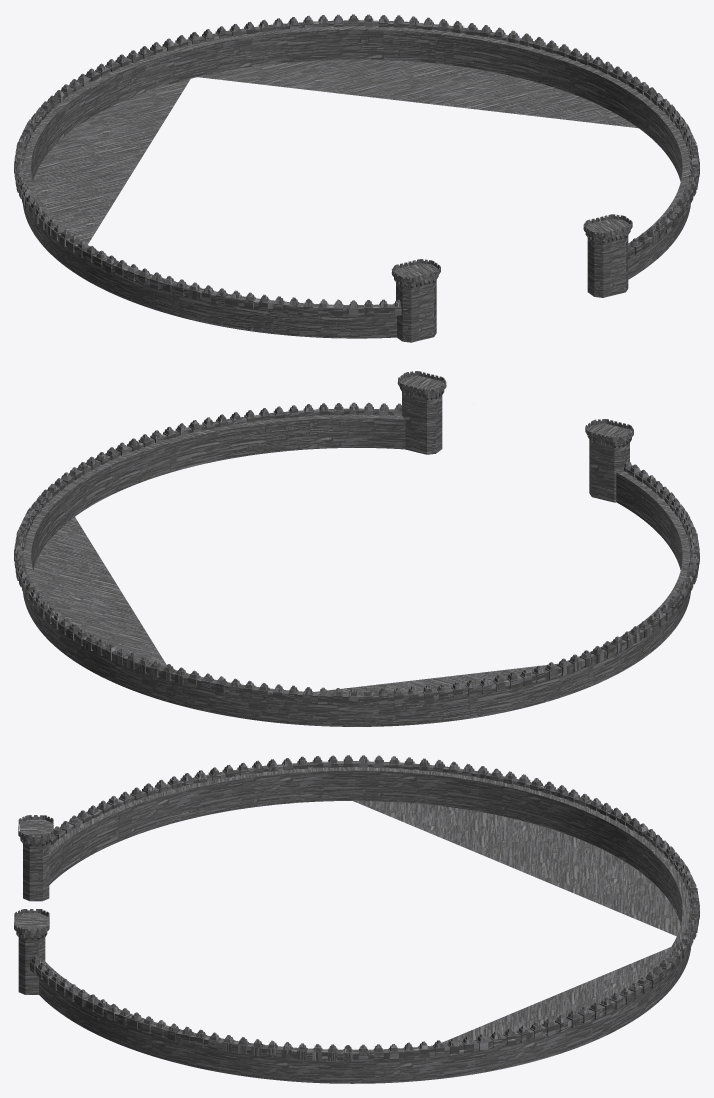
File: wall_2.fbx
The picture shows the model from 3 angles, top to bottom: view 1: azimuth 30°, elevation 25°; view 2: azimuth 150°, elevation 25°; view 3: azimuth 270°, elevation 25°; orthographic projection.
Parts seen in each view (by area): view 1: LVL 1 Pared, LVL 1 Bloques muro, LVL 1 torre puerta der, LVL 1 torre puerta izq, LVL 1 bloq torre puerta der, LVL 1 bloq torre puerta izq; view 2: LVL 1 Pared, LVL 1 Bloques muro, LVL 1 torre puerta der, LVL 1 torre puerta izq, LVL 1 bloq torre puerta izq, LVL 1 bloq torre puerta der; view 3: LVL 1 Pared, LVL 1 Bloques muro, LVL 1 torre puerta izq, LVL 1 torre puerta der, LVL 1 bloq torre puerta der, LVL 1 bloq torre puerta izq.
Boxes of the visible parts, x1,y1,x2,y2 form: LVL 1 Pared: (22,26,690,338); LVL 1 Bloques muro: (14,14,699,316); LVL 1 torre puerta der: (587,234,628,297); LVL 1 torre puerta izq: (396,279,436,342); LVL 1 bloq torre puerta der: (583,214,632,243); LVL 1 bloq torre puerta izq: (391,259,440,288); LVL 1 Pared: (23,414,690,726); LVL 1 Bloques muro: (14,402,699,704); LVL 1 torre puerta der: (402,391,442,454); LVL 1 torre puerta izq: (589,439,629,502); LVL 1 bloq torre puerta izq: (585,419,633,448); LVL 1 bloq torre puerta der: (397,371,446,400); LVL 1 Pared: (39,767,691,1083); LVL 1 Bloques muro: (30,755,699,1061); LVL 1 torre puerta izq: (23,840,49,901); LVL 1 torre puerta der: (18,933,45,994); LVL 1 bloq torre puerta der: (14,909,49,939); LVL 1 bloq torre puerta izq: (18,815,53,845).
Size of the model in its own units: 1543 by 226 by 1522.
